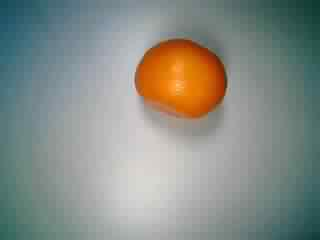orange: (134, 35, 228, 121)
